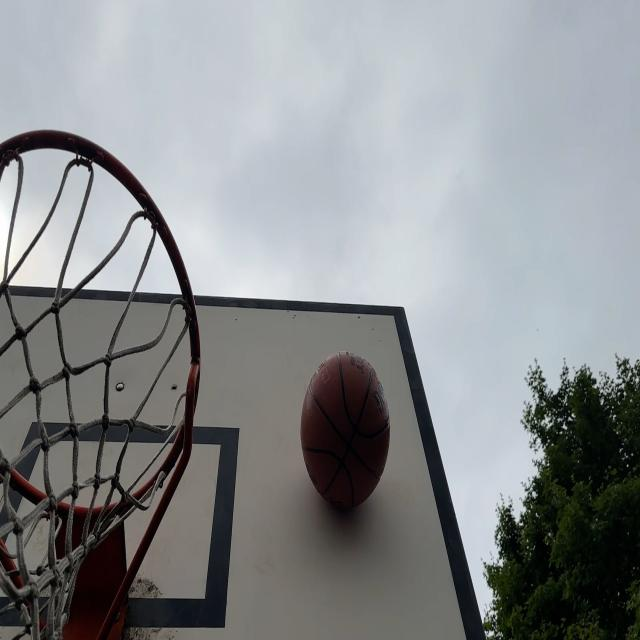rebound_hit: (300, 352, 390, 522)
